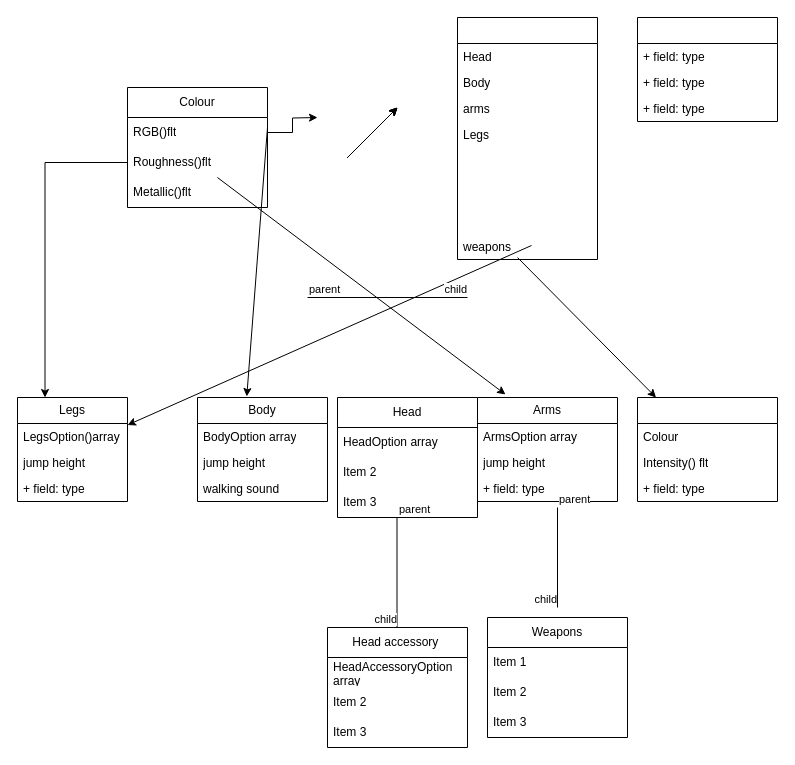
This 795x765 diagram has some shape labels left out. The shapes that lost their labels are listed below. From the top down, each one's box as (x1, y1, x2, y2) in pixels, then its label:
(636, 16, 778, 122): PartSelection()
(456, 16, 598, 260): Character
(636, 396, 778, 502): Lights
